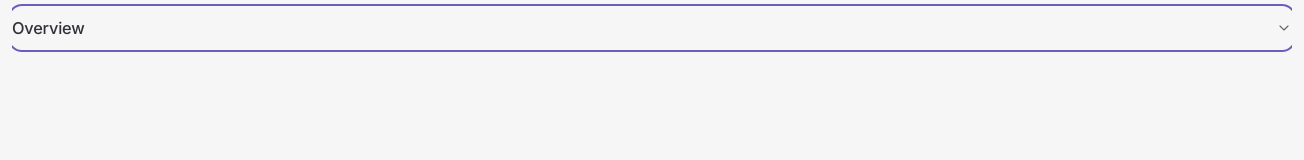
Accordion keyboard and disclosure semantics › connects each trigger to its region and hides collapsed content
This screenshot has width=1304, height=160.
Later steps or results of the test are not shown.
What coordinates should you click on to do the following:
click the button "Overview"
I would click on:
 (48, 28)
Its box is x1=12 y1=8 x2=1292 y2=48.
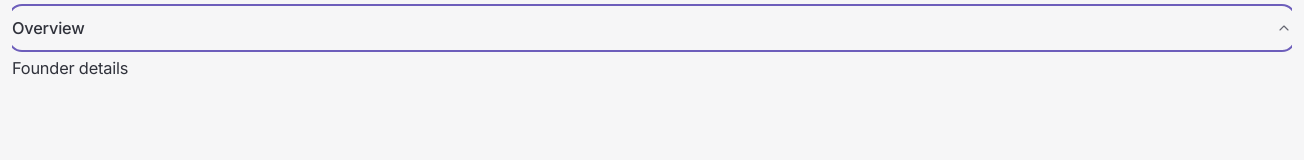
Result: the button "Overview" is expanded at x1=12 y1=8 x2=1292 y2=48
Result: the element named "Overview" reads "Founder details" at x1=12 y1=58 x2=128 y2=78
